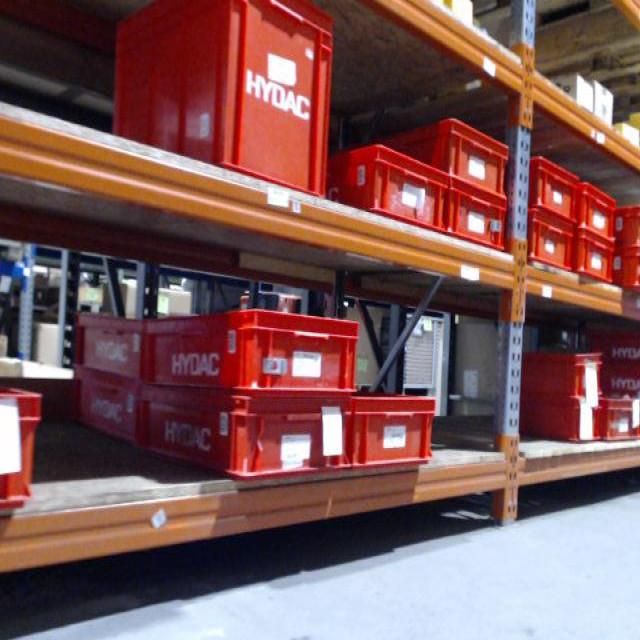small_load_carrier: (106, 3, 339, 204), (144, 391, 352, 481), (142, 310, 364, 391), (318, 144, 449, 237), (367, 114, 512, 198), (349, 392, 438, 474), (1, 381, 50, 510), (66, 371, 144, 445), (67, 309, 148, 379), (499, 160, 582, 223), (433, 184, 507, 250), (513, 352, 603, 403), (514, 403, 604, 445), (510, 215, 575, 269), (577, 174, 620, 240), (577, 231, 616, 290), (602, 399, 640, 444), (582, 329, 635, 361), (604, 360, 639, 406), (612, 206, 637, 247), (618, 250, 640, 295)
